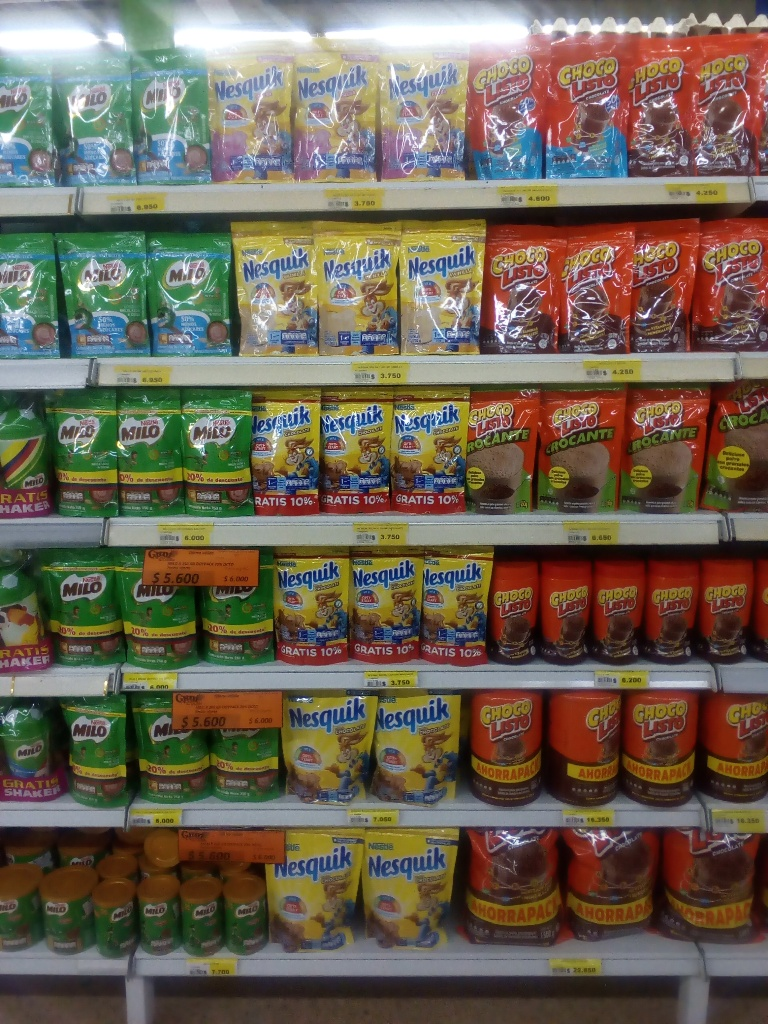COL0170102DYP25000: (462, 384, 538, 521)
COL0170102DYP50000: (706, 379, 765, 520)
COL0170103DYP1,500: (463, 820, 571, 950)
COL0170103DYP20000: (475, 222, 562, 363)
COL0170103TRR00100: (462, 684, 548, 813)
COL0170104DYP20000: (540, 24, 631, 181)
COL0170203DYP25000: (202, 690, 287, 808)
COL0170203LAT20000: (219, 872, 271, 958)
COL0170203LAT40000: (39, 857, 100, 952)
COL0170205DYP20000: (142, 227, 235, 356)
COL0170305DYP20000: (376, 38, 470, 188)
COL0170306DYP20000: (395, 213, 495, 358)
